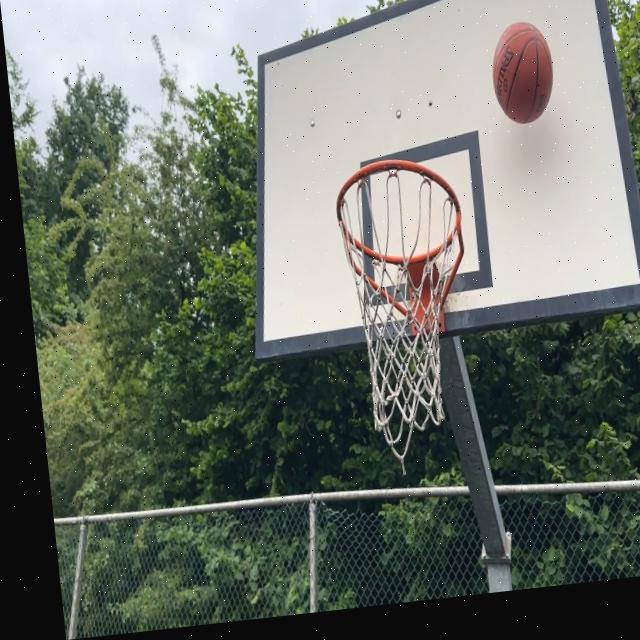Basketball: (489, 21, 560, 130)
